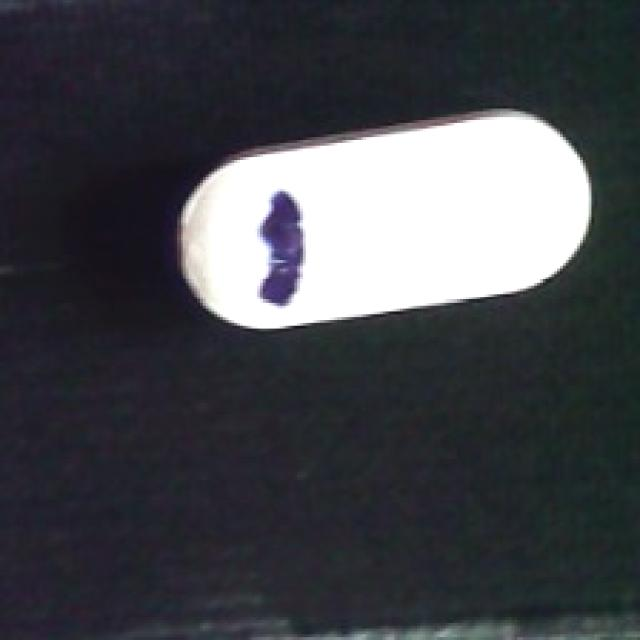defected: (166, 103, 603, 328)
